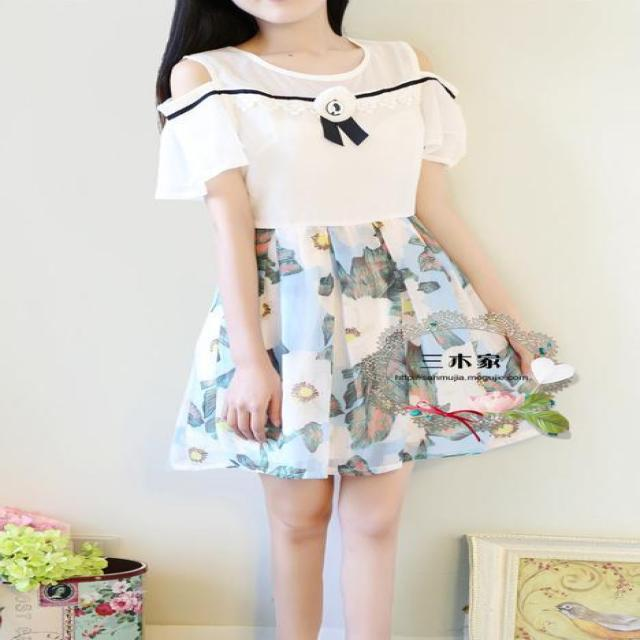short sleeve dress: (153, 41, 561, 476)
